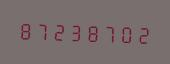eight: (17, 17, 33, 42), (85, 20, 101, 44)
seven: (102, 20, 118, 45), (34, 18, 50, 42)
three: (68, 19, 84, 43)
two: (51, 18, 67, 43), (136, 21, 152, 46)
zero: (119, 21, 135, 45)
